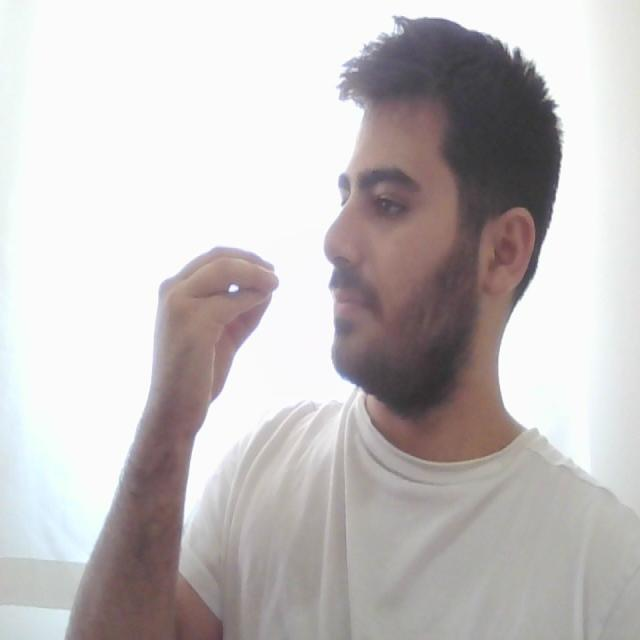Yemek: (155, 244, 374, 339)
